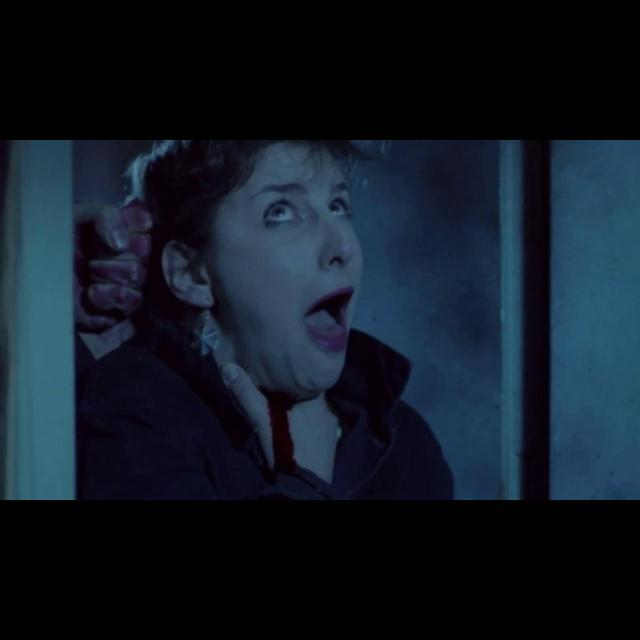blood: (258, 390, 301, 478)
